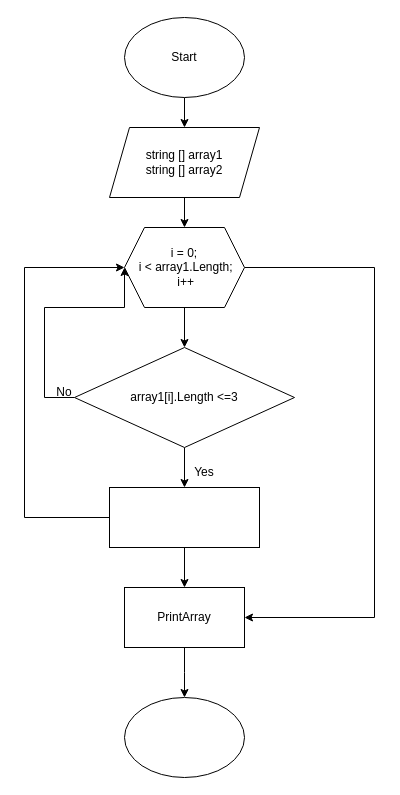
The diagram is 400 pixels wide and 795 high, and some of its shapes have lost their labels. Here are the shapes that lost their labels. From the top down, the centre of each, then its label:
At (x=184, y=517): "array2[count] =array1[i] count++".
At (x=184, y=737): "End".
